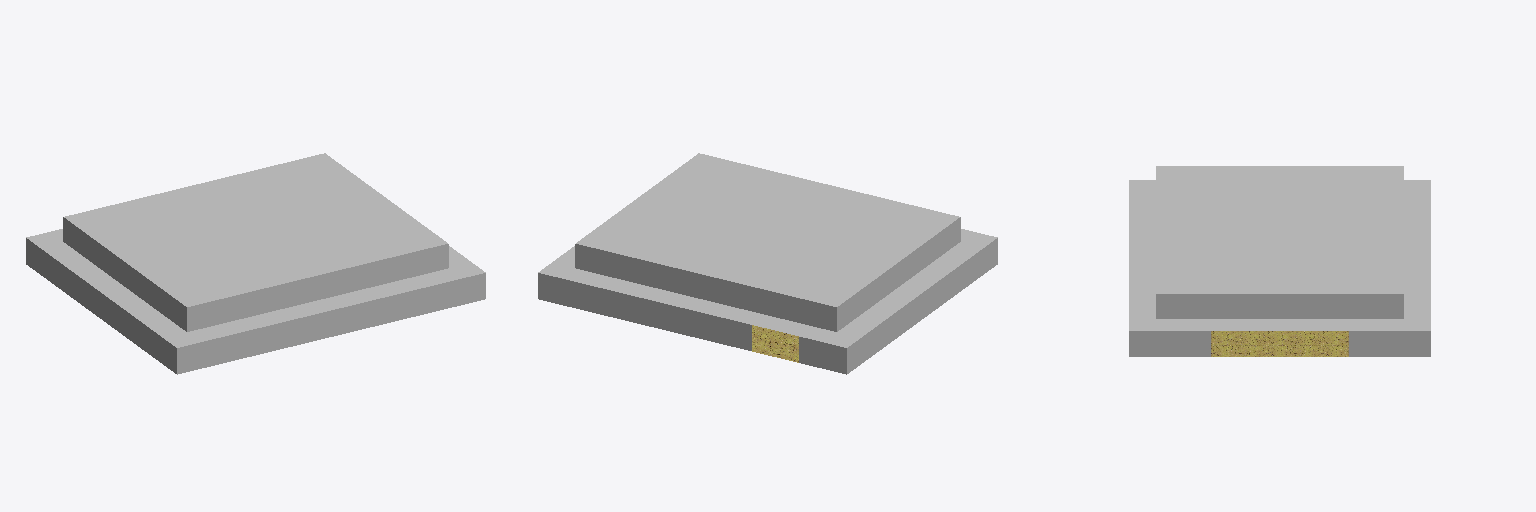
3 views of the same model, side by side, from view 1: azimuth 30°, elevation 25°; view 2: azimuth 150°, elevation 25°; view 3: azimuth 270°, elevation 25° (orthographic).
Visible parts, largest first — view 1: building2, building2_wall; view 2: building2, building2_wall, building2_floor; view 3: building2, building2_wall, building2_floor.
Boxes of the visible parts, x1=… form: building2: x1=26, y1=153, x2=485, y2=347; building2_wall: x1=26, y1=238, x2=485, y2=374; building2: x1=538, y1=153, x2=997, y2=347; building2_wall: x1=538, y1=238, x2=997, y2=374; building2_floor: x1=752, y1=325, x2=798, y2=362; building2: x1=1129, y1=166, x2=1430, y2=330; building2_wall: x1=1129, y1=331, x2=1430, y2=356; building2_floor: x1=1211, y1=331, x2=1348, y2=356.
Bounding box in the file's own units: 260 × 41.35 × 220.
3 materials, 1 textured.